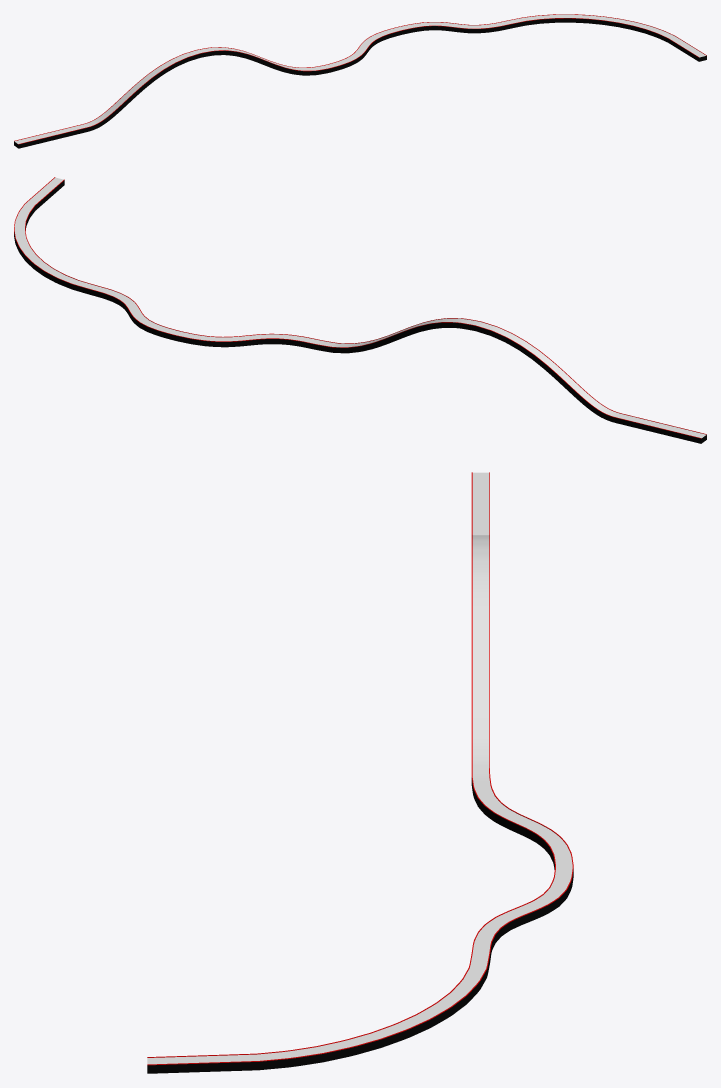
File: road_3.fbx
The picture shows the model from 3 angles, top to bottom: view 1: azimuth 30°, elevation 25°; view 2: azimuth 150°, elevation 25°; view 3: azimuth 270°, elevation 25°; orthographic projection. The views are drawn at different scales.
Parts seen in each view (by area): view 1: 2.003, 2.001; view 2: 2.003, 2.001; view 3: 2.003, 2.001.
Boxes of the visible parts, x1,y1,x2,y2 form: 2.003: (14, 14, 706, 148); 2.001: (14, 14, 706, 144); 2.003: (14, 177, 706, 443); 2.001: (14, 177, 706, 438); 2.003: (147, 472, 573, 1073); 2.001: (147, 472, 573, 1065).
Size of the model in its own units: 9920 by 796 by 3015.
